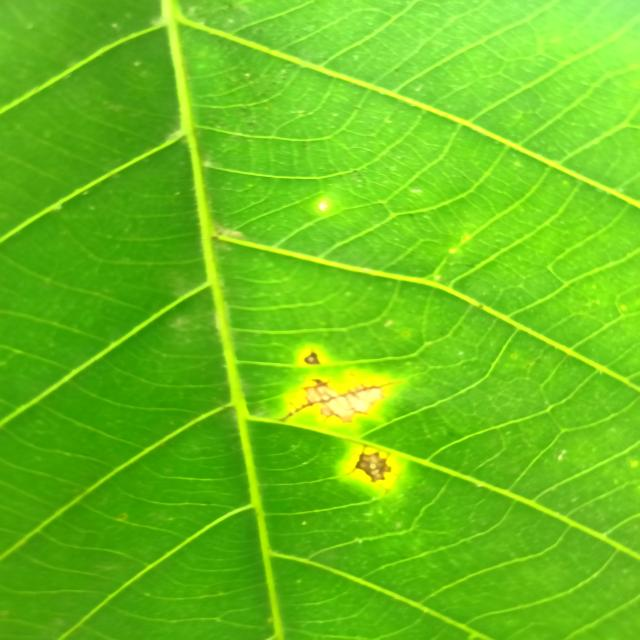Corynespora: (280, 374, 404, 424)
